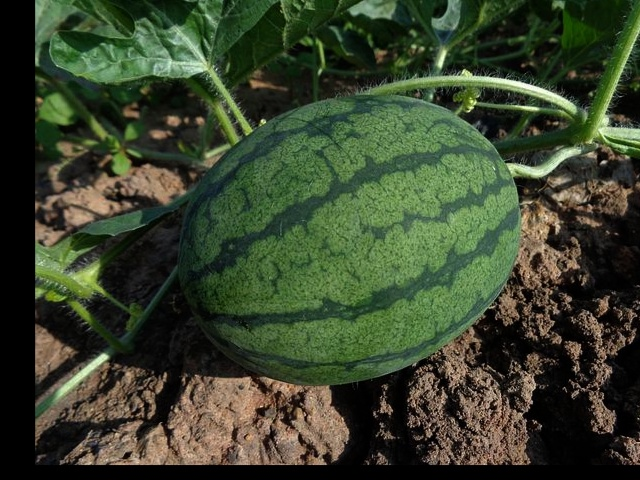watermelon: (178, 85, 518, 383)
